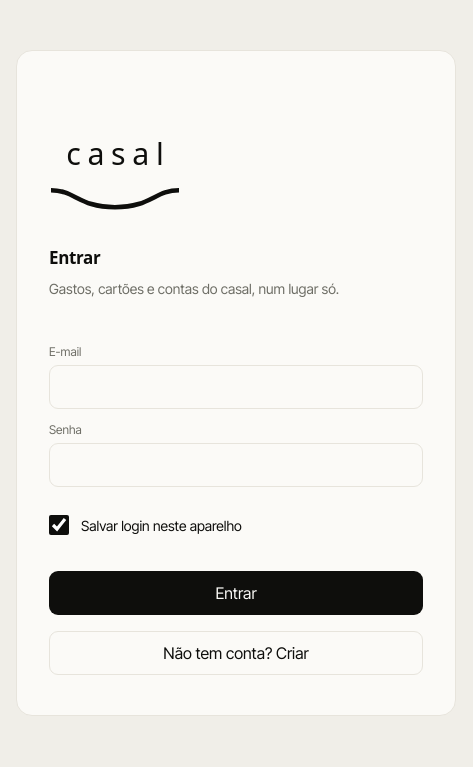
Test: Entrar › mostra a falha devolvida pela autenticação
This screenshot has width=473, height=767.
In the field labelled "E-mail": (236, 387) [49,365,423,409], type "eu@casa.br"
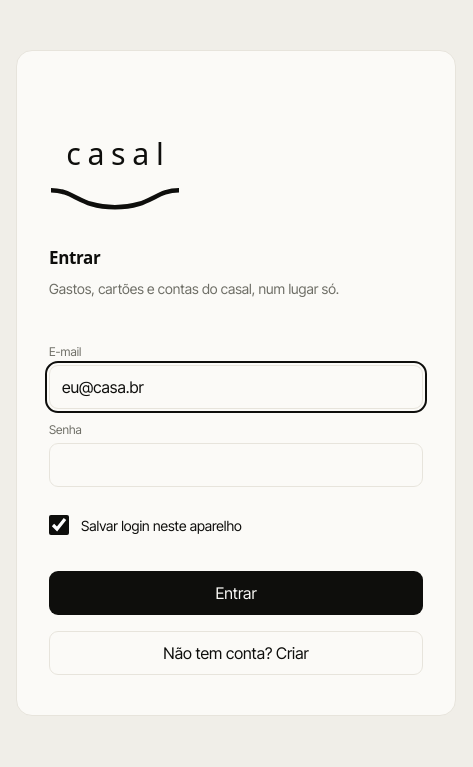
In the password field labelled "Senha": (236, 465) [49,443,423,487], type "123456"
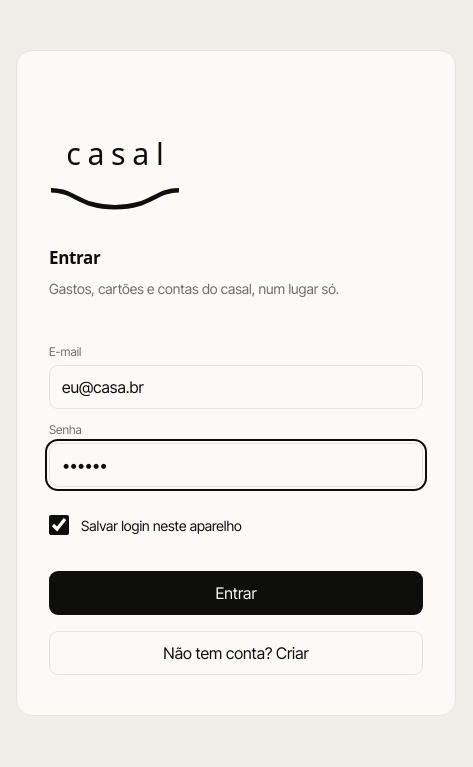
Click the button "Entrar": (236, 593) [49,571,423,615]
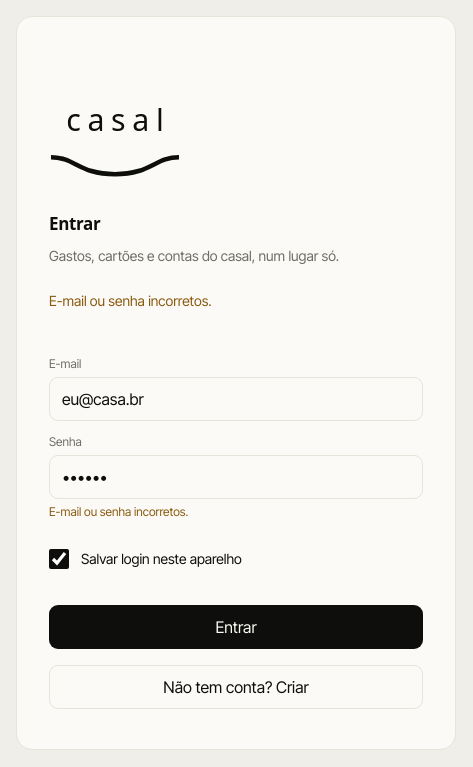
Expected: the message reads "E-mail ou senha incorretos.", [49,292,212,309]
